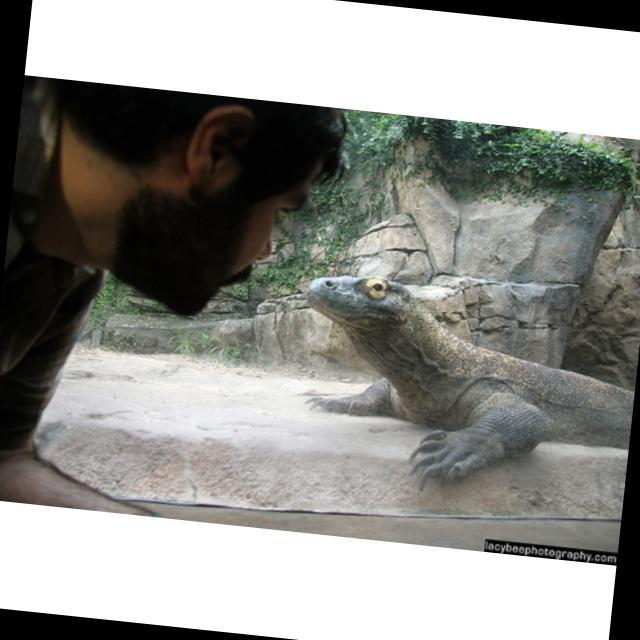KomodoDragon: (279, 263, 640, 513)
